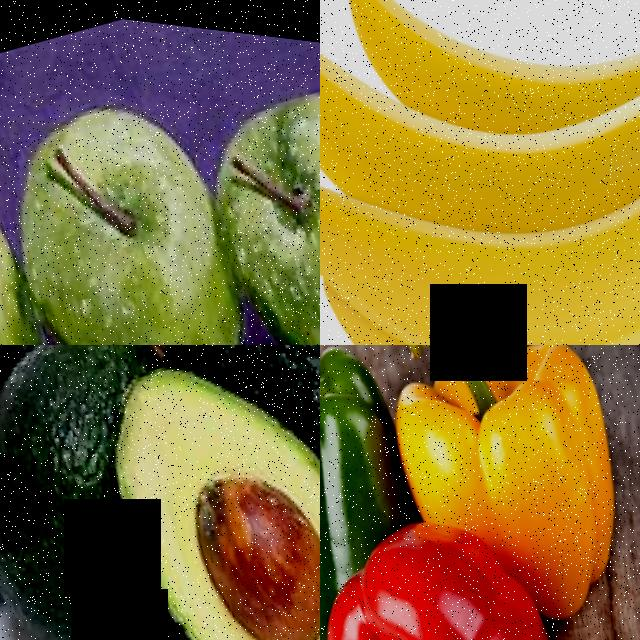apple: (0, 54, 308, 345), (170, 27, 320, 345), (0, 144, 104, 345)
avocado: (61, 345, 320, 640), (0, 345, 207, 640)
banana: (320, 0, 640, 345)
bell pepper: (364, 345, 640, 543), (320, 508, 615, 640), (320, 345, 432, 589)
